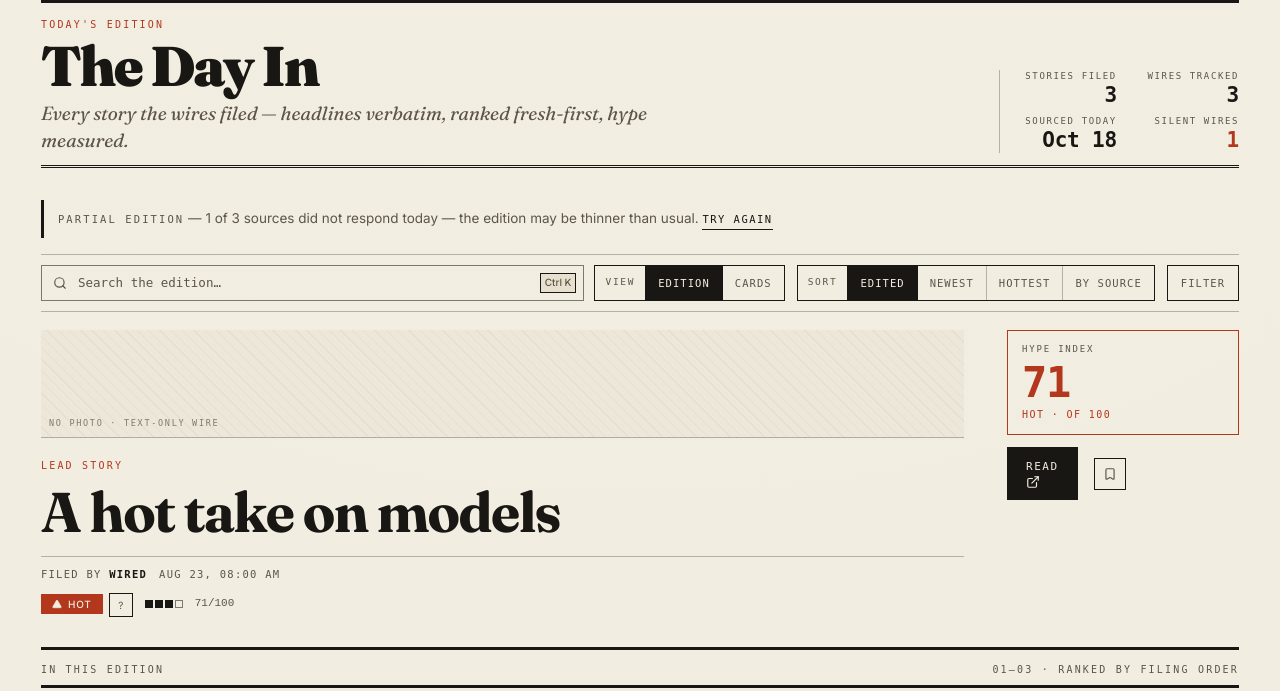
Scenario: Edition filter disclosure › opens the panel with legend and chips, and filters from inside it
Click the button "Filter": [1203, 283] box [1167,265,1239,301]
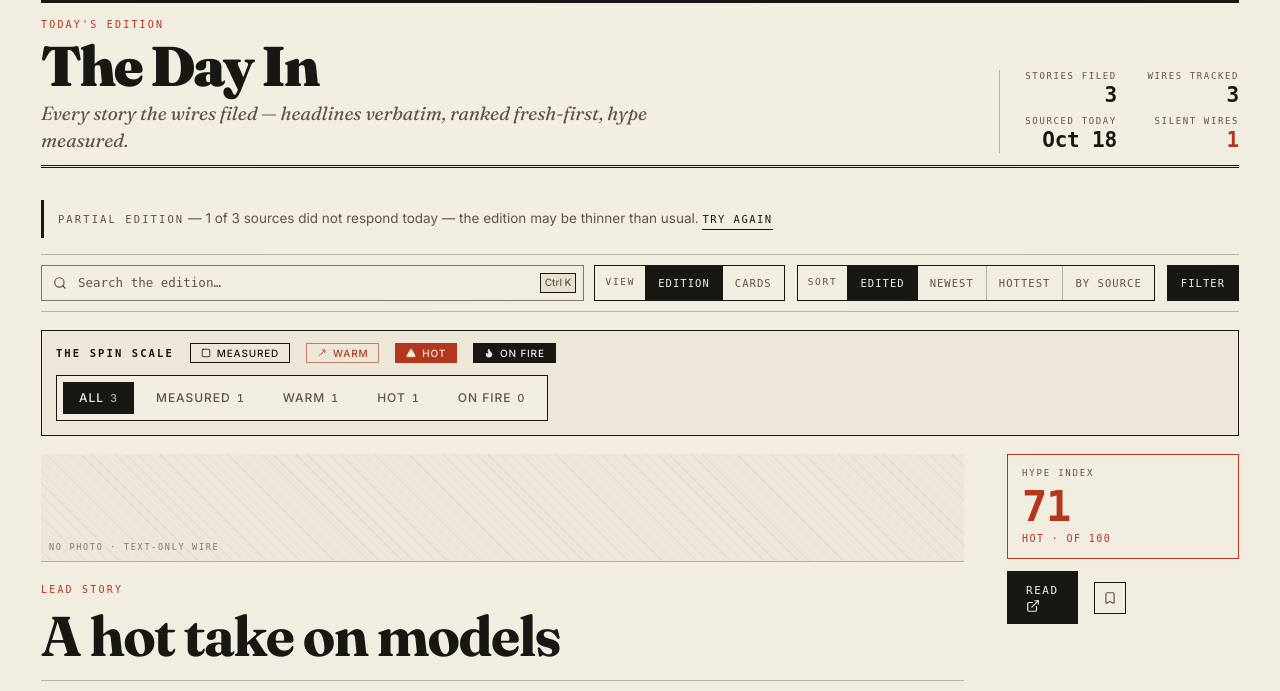
Expected: the element with id "edition-filters" is shown, [41,330,1239,436]
Expected: the text "The spin scale" is shown, [56,345,174,361]
Click the button "Hot 1": [398, 398] box [361,382,436,414]
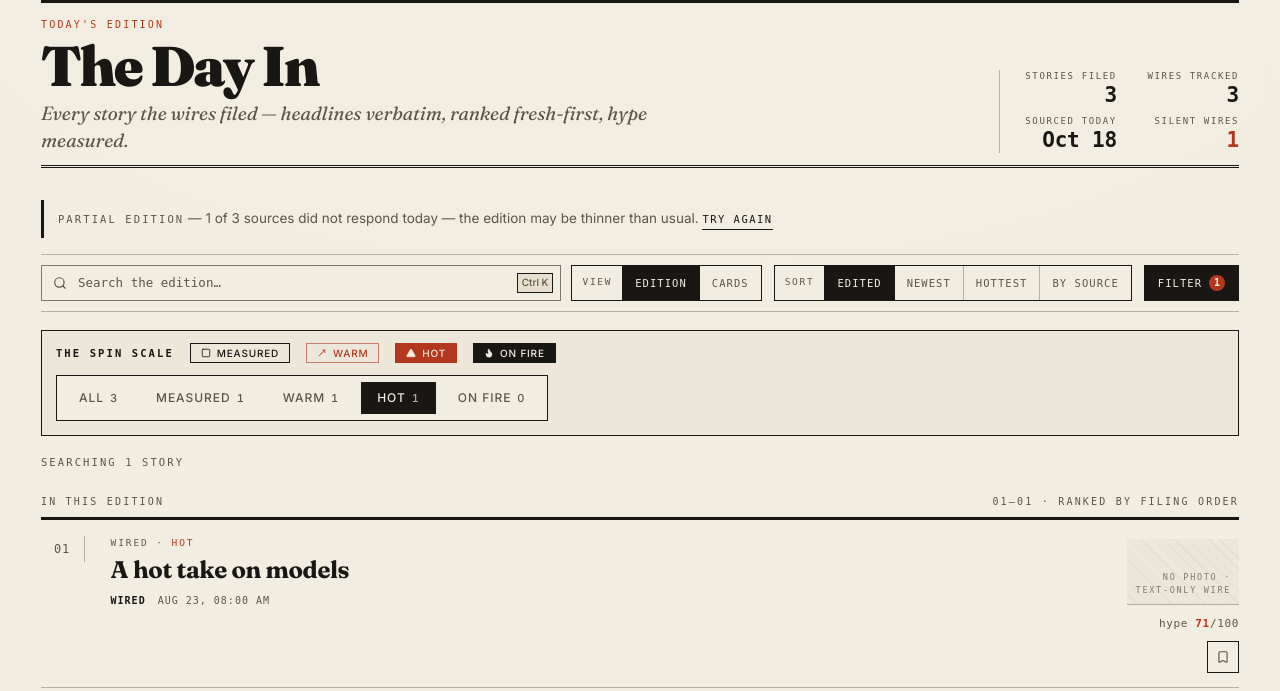
Expected: the button "Filter 1" is expanded, [1144,265,1239,301]
Expected: the text "Searching 1 story" is shown, [41,456,184,468]
